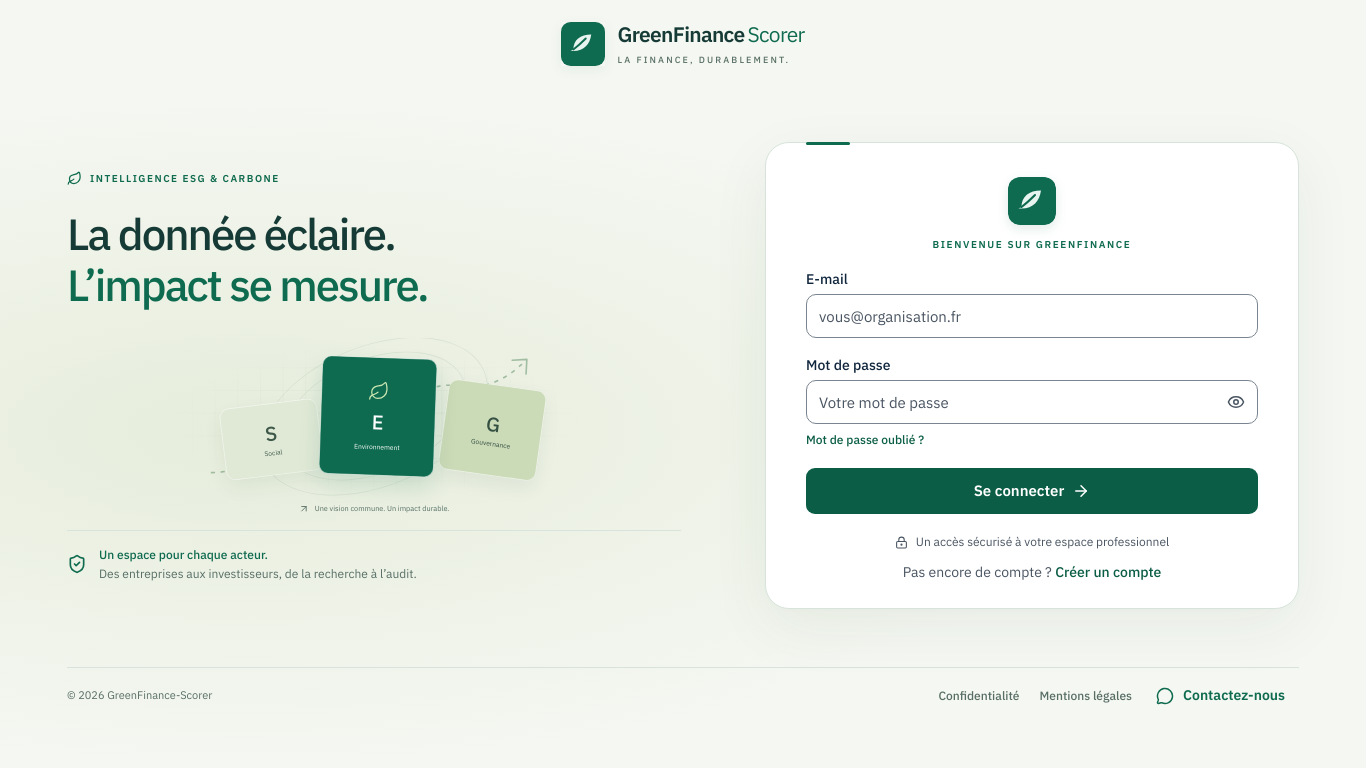
Test case: LoginPage › permet de vérifier le mot de passe saisi sans soumettre le formulaire
Type "mon-secret" into the password field labelled "Mot de passe" at (1032, 402), box left=806, top=380, right=1258, bottom=424
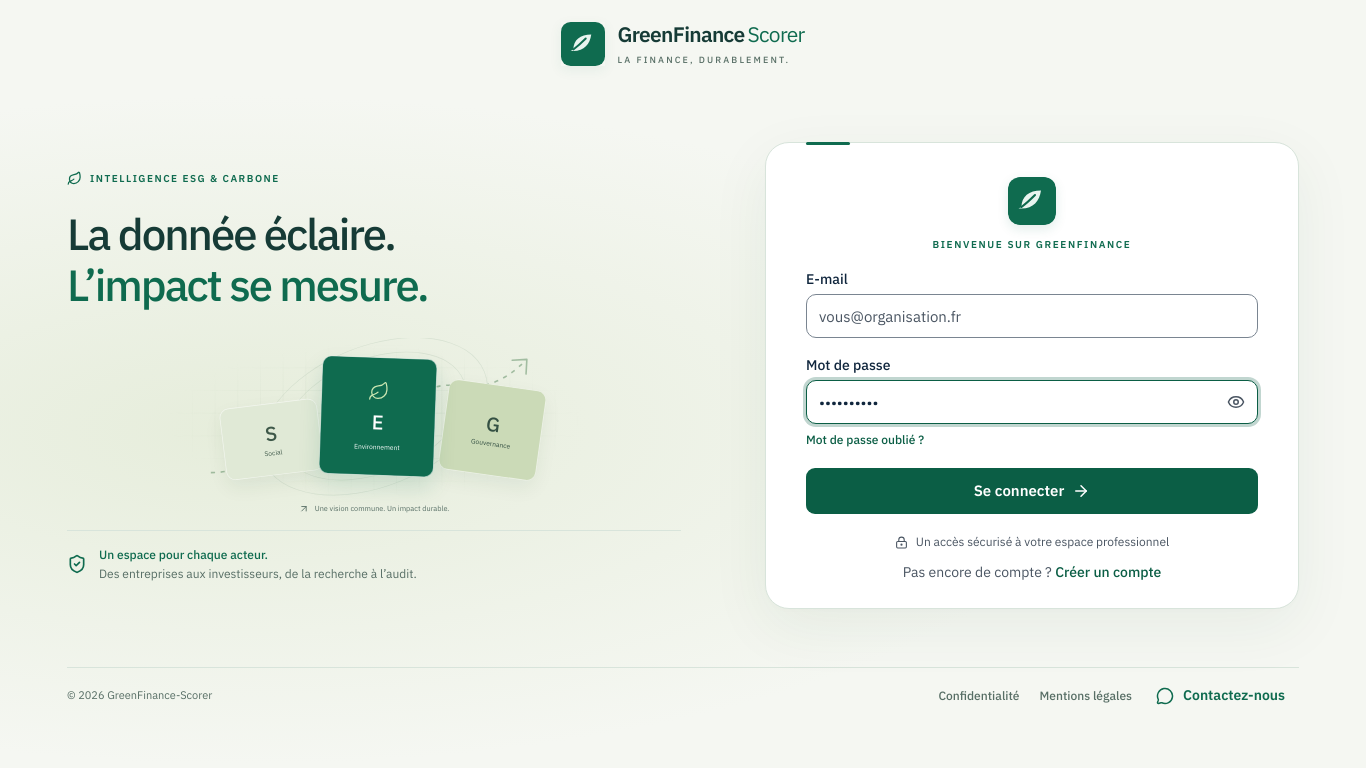
Click the button named "Afficher le mot de passe" at (1236, 402), box left=1214, top=380, right=1258, bottom=424
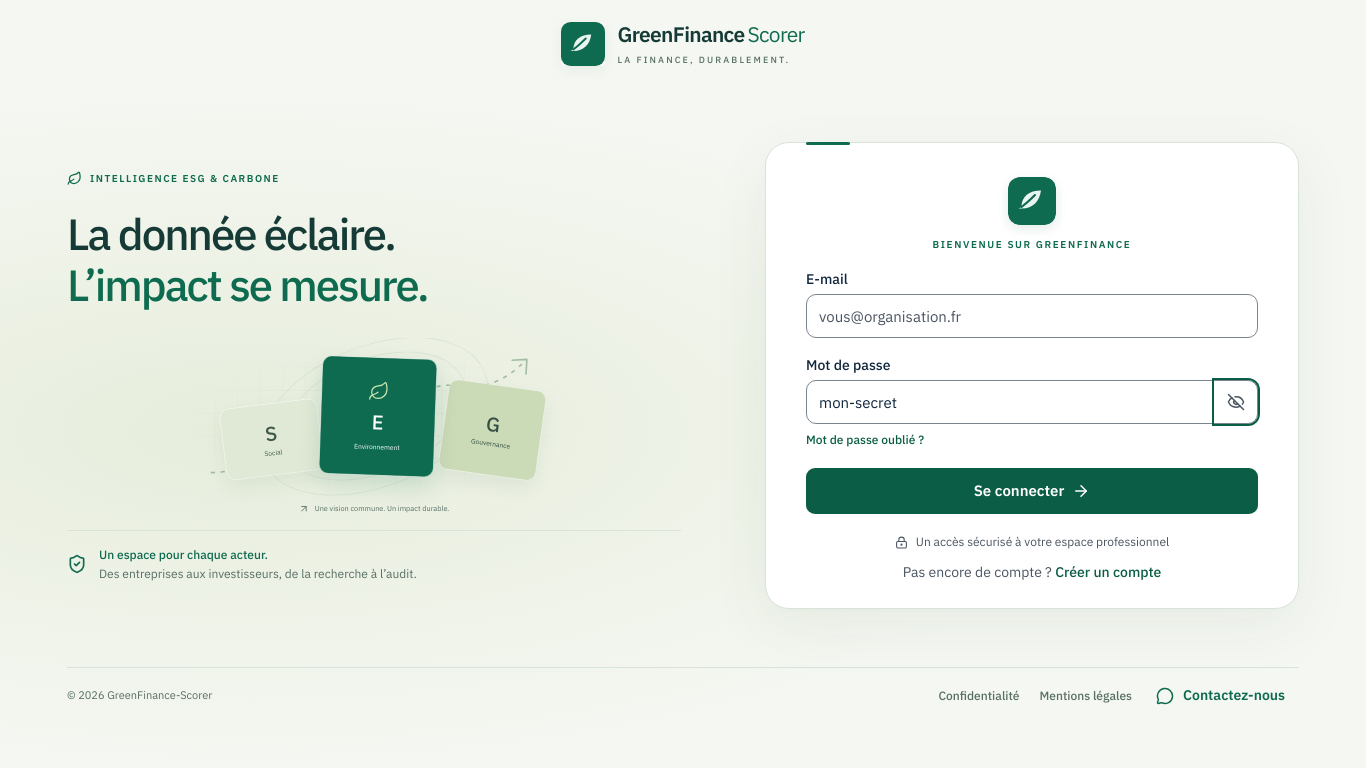
Expected: the field labelled "Mot de passe" shows its text, left=806, top=380, right=1258, bottom=424
Click the button named "Masquer le mot de passe" at (1236, 402), box left=1214, top=380, right=1258, bottom=424
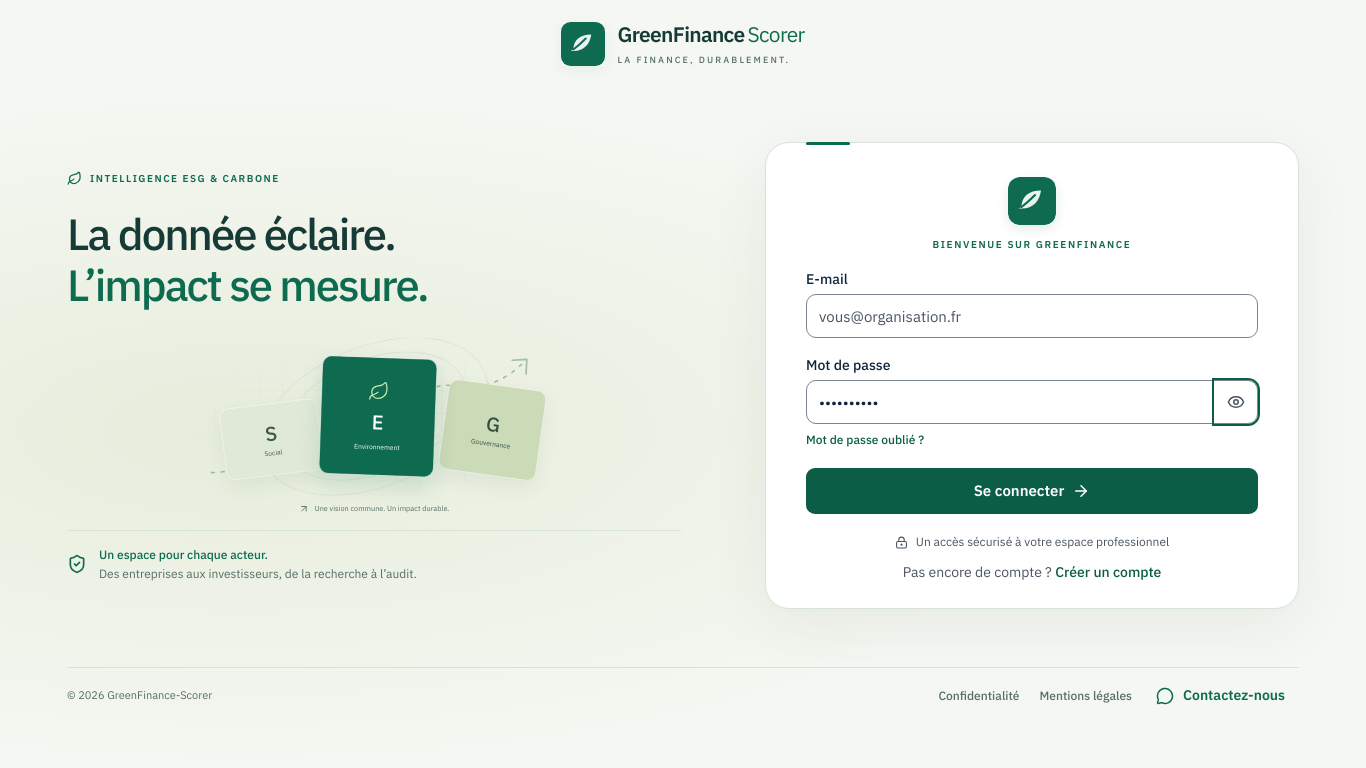
Expected: the password field labelled "Mot de passe" hides its text, left=806, top=380, right=1258, bottom=424
